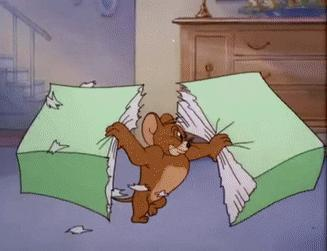jerry: (105, 110, 232, 225)
